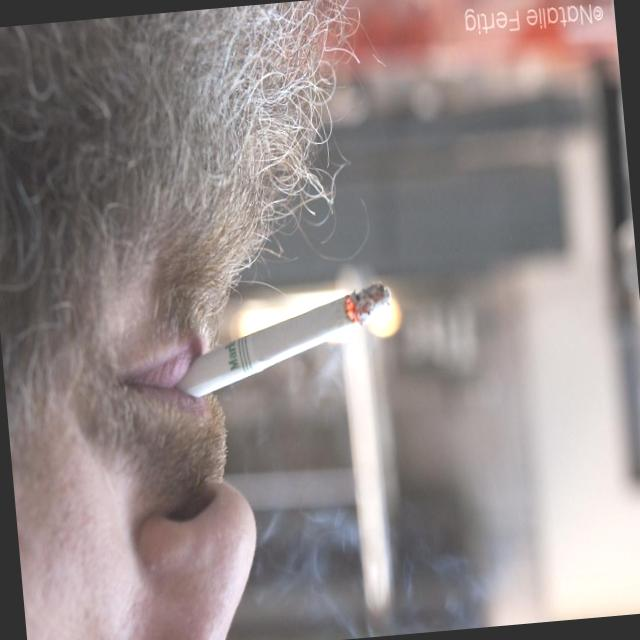cigarette: (154, 252, 416, 442)
